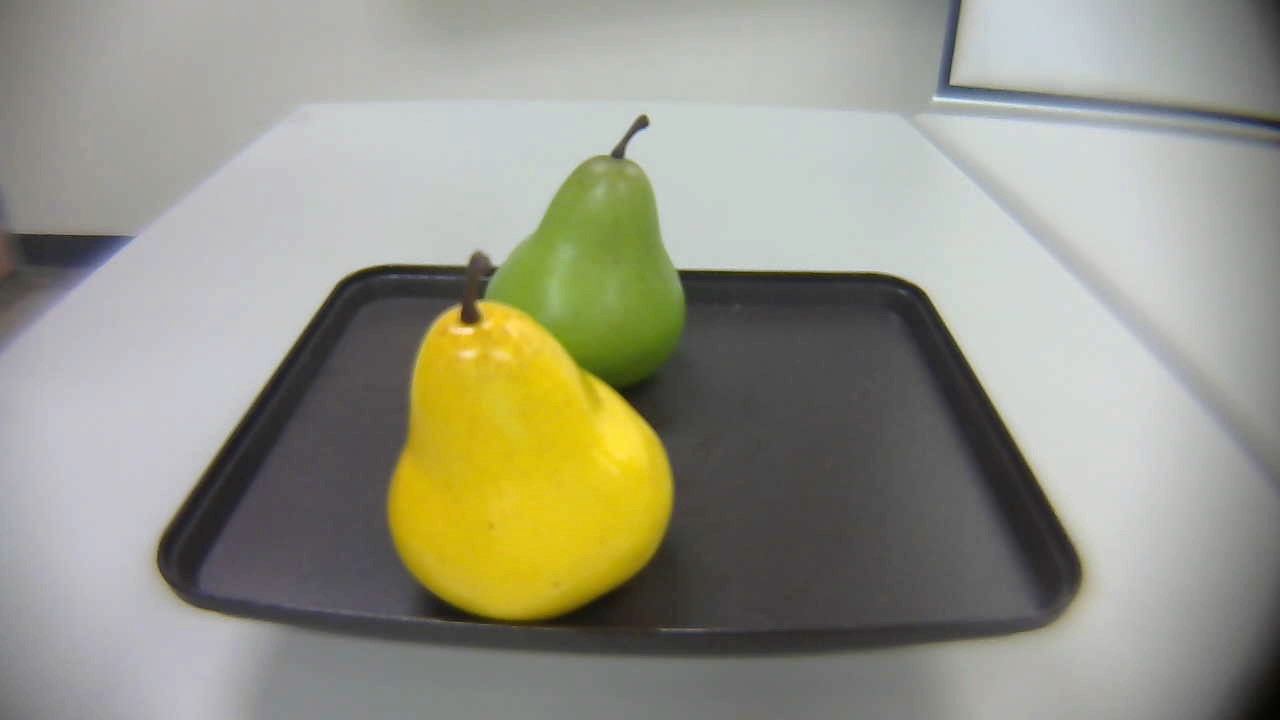green pear: (481, 103, 689, 408)
yellow pear: (368, 250, 696, 622)
